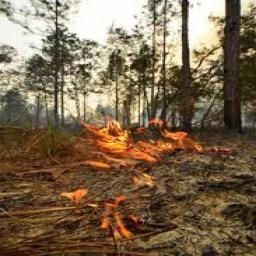Small fire: (71, 111, 224, 255)
